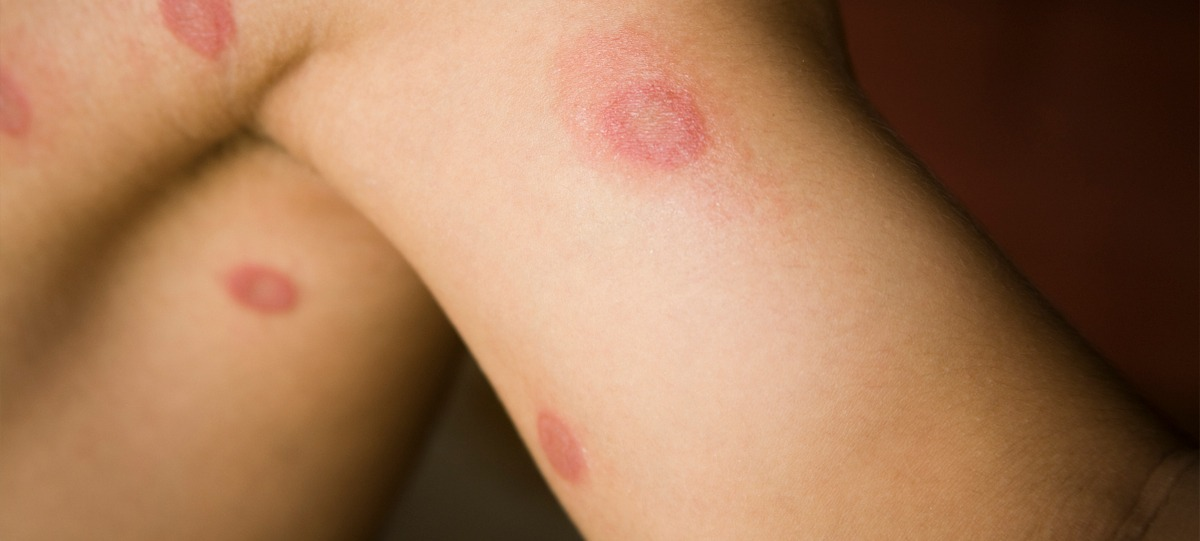Ringworm: (599, 74, 721, 174), (149, 1, 261, 63), (214, 260, 316, 324), (531, 399, 599, 494)
